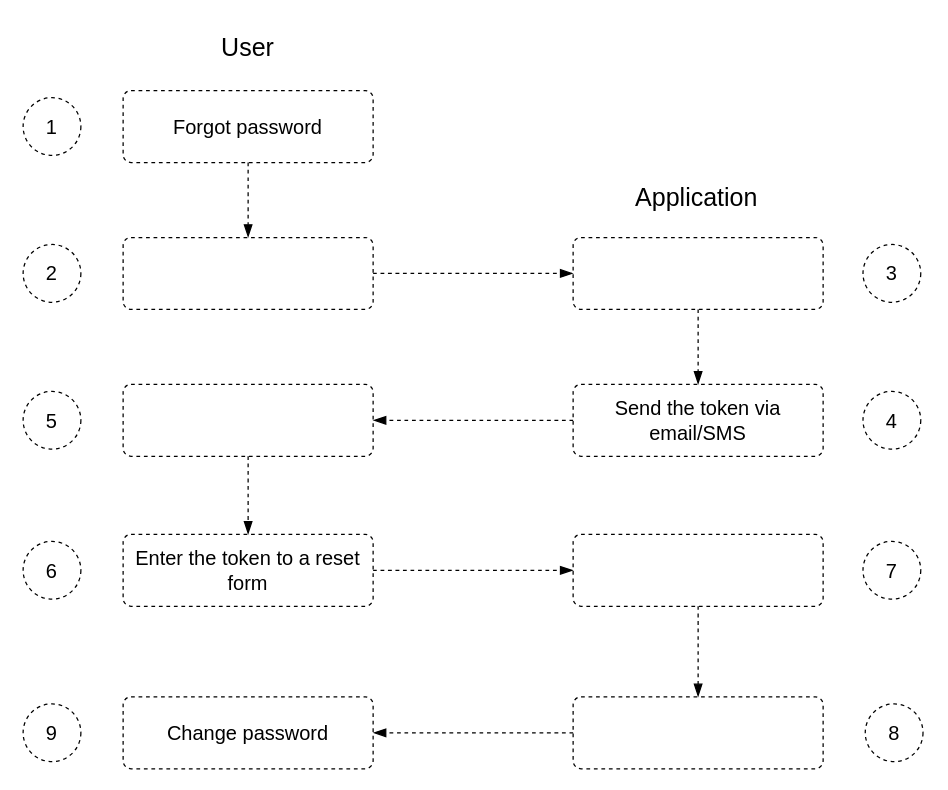
This 948x790 diagram has some shape labels left out. The centre of each missing label's shape, as x and y in pixels:
Authenticate the user: pixel 697 732
Generate a password reset token: pixel 697 272
Receive the token: pixel 247 419
Request password reset: pixel 247 272
Verify and invalidate the token: pixel 697 569
